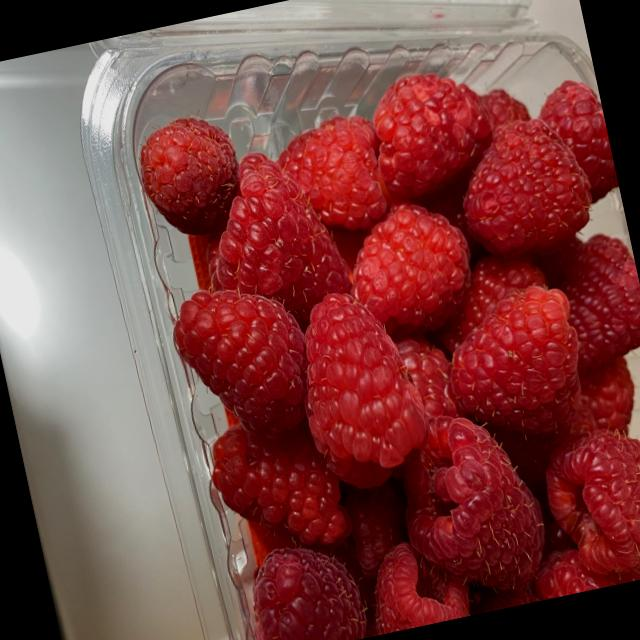raspberries: (117, 8, 640, 640)
